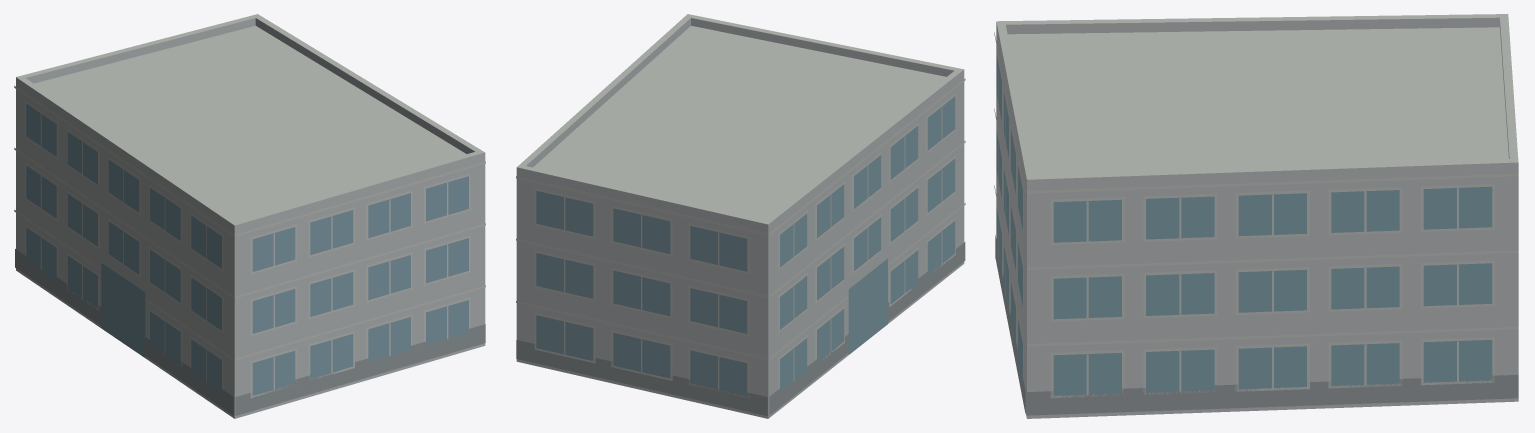
The model's file is public-2954b52e-88bf-4e32-913e-d60c586b0efa.glb.
3 views of the same model, side by side, from view 1: azimuth 30°, elevation 25°; view 2: azimuth 150°, elevation 25°; view 3: azimuth 270°, elevation 25° (orthographic). The views are drawn at different scales.
Parts seen in each view (by area): view 1: public-2954b52e-88bf-4e32-913e-d60c586b0efa; view 2: public-2954b52e-88bf-4e32-913e-d60c586b0efa; view 3: public-2954b52e-88bf-4e32-913e-d60c586b0efa.
Boxes of the visible parts, <box> form: public-2954b52e-88bf-4e32-913e-d60c586b0efa: <box>14,14,485,418</box>; public-2954b52e-88bf-4e32-913e-d60c586b0efa: <box>516,14,965,418</box>; public-2954b52e-88bf-4e32-913e-d60c586b0efa: <box>994,14,1518,418</box>.
Size of the model in its own units: 14.65 by 9.15 by 18.24.
